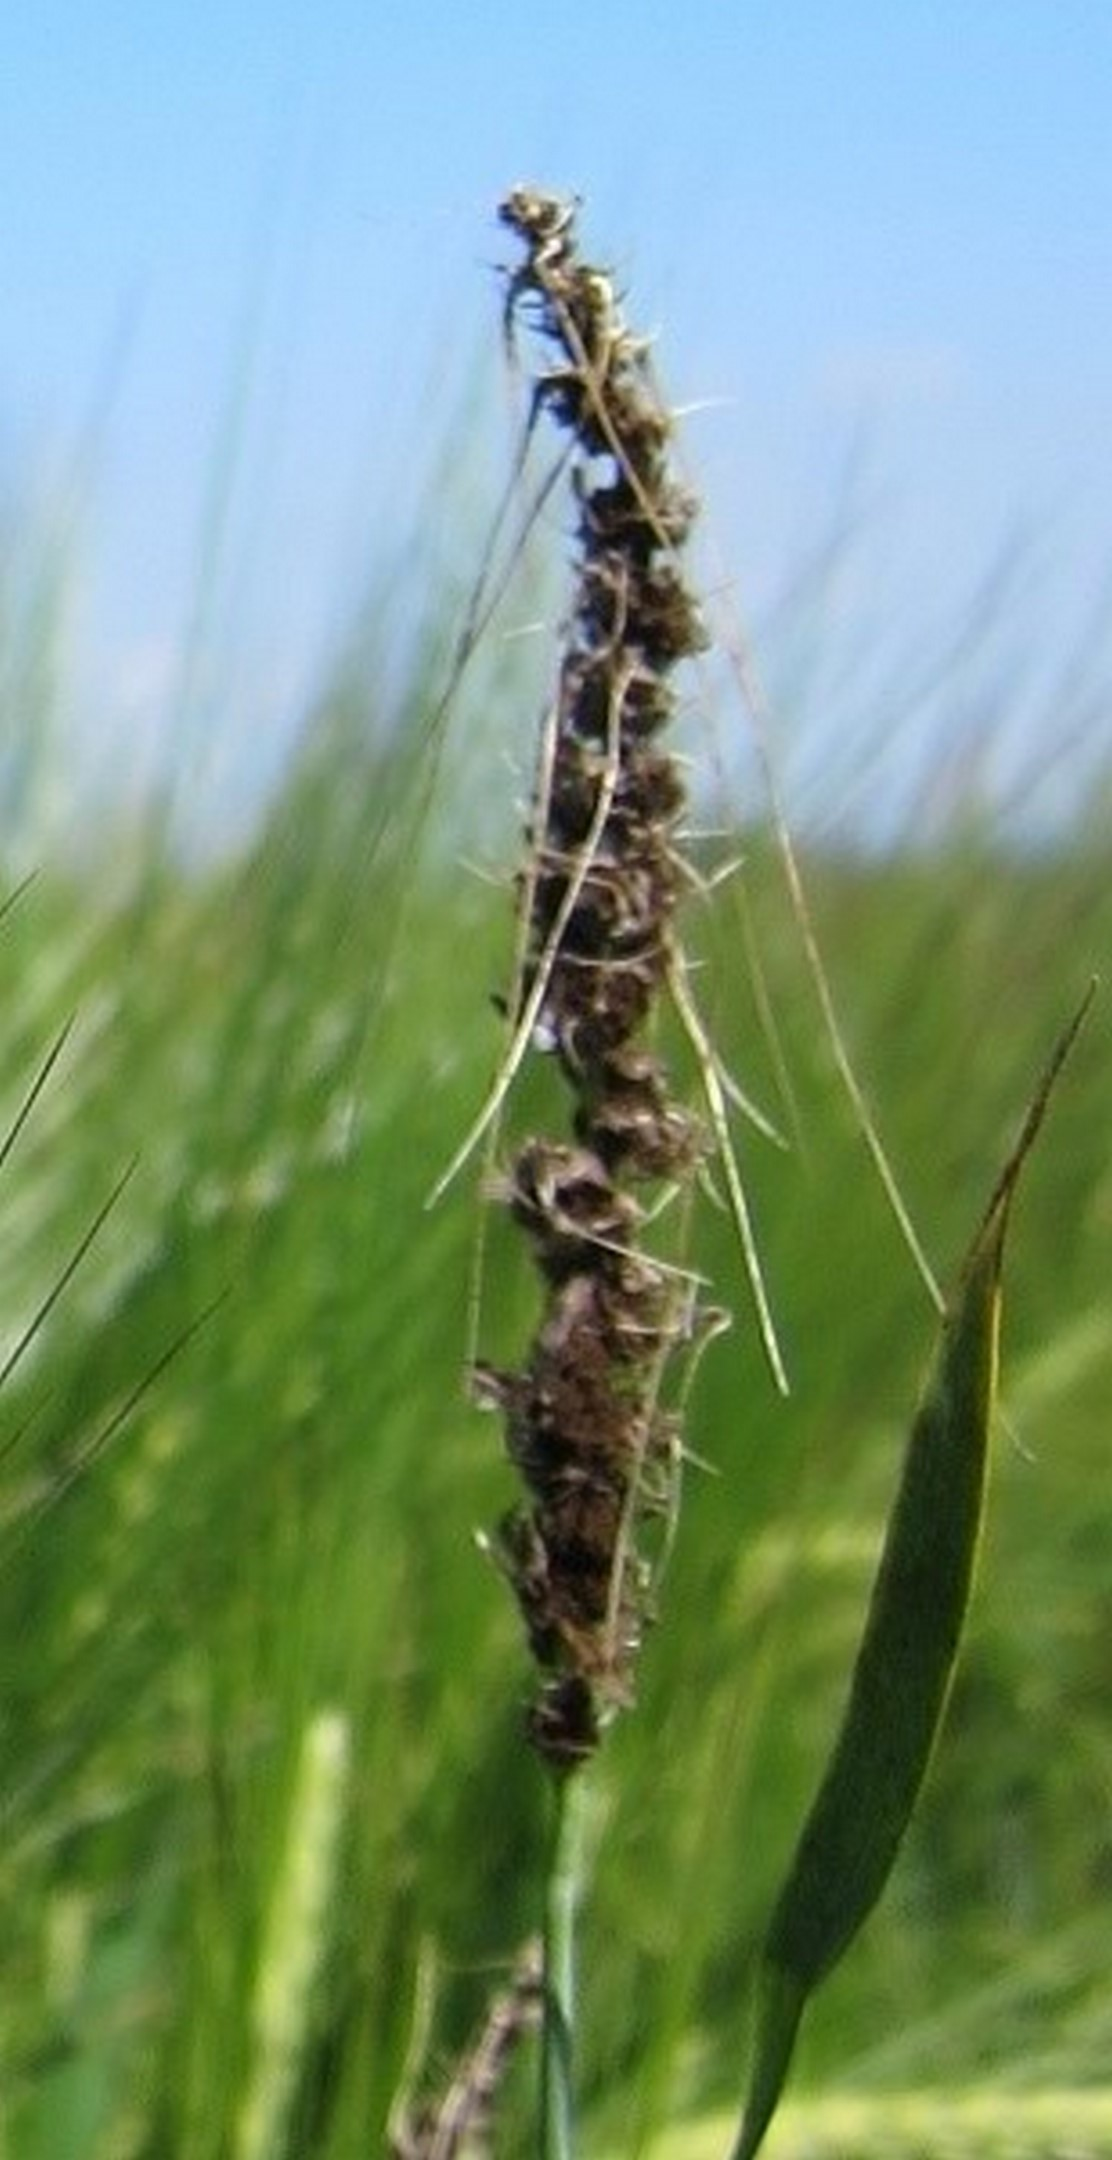Wheat Loose Smut: (434, 187, 766, 1691)
